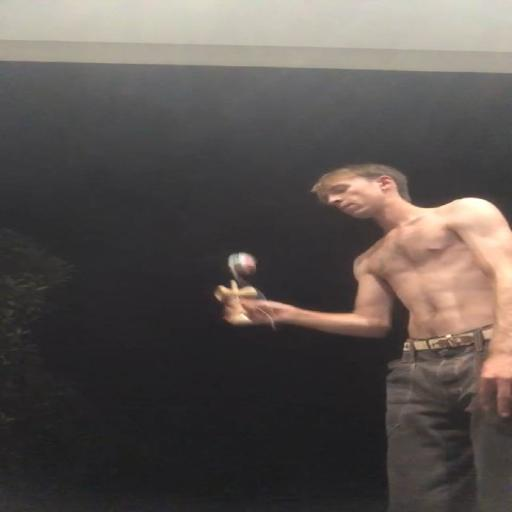kendama_ball: (227, 252, 256, 275)
